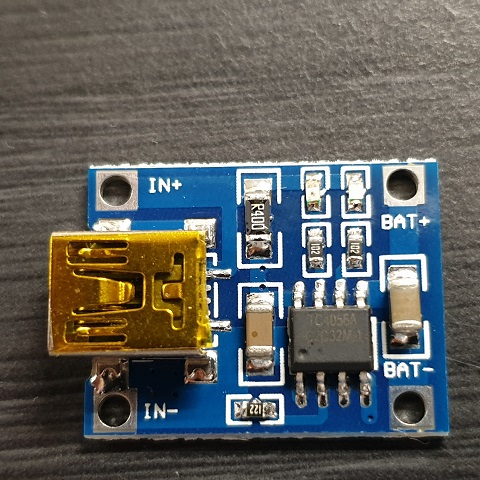batt+: (381, 162, 418, 202)
batt-: (390, 384, 428, 434)
charge: (300, 166, 330, 218)
done: (337, 166, 372, 220)
rprog: (232, 395, 276, 427)
usb: (44, 231, 212, 355)
